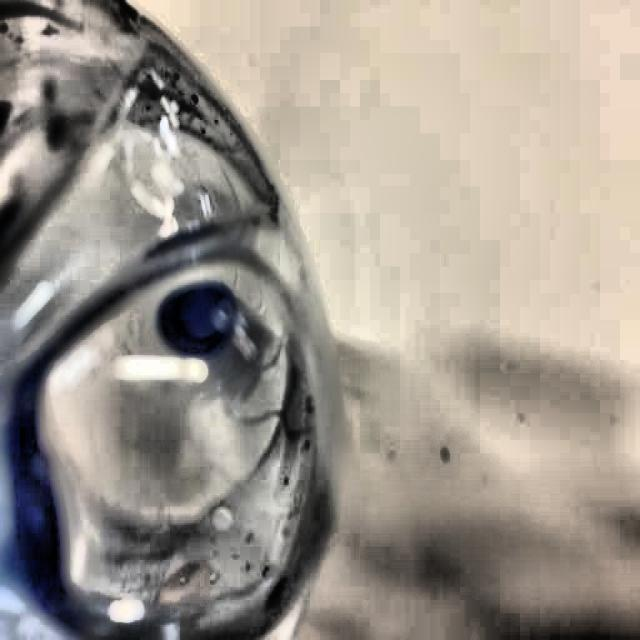plastic: (0, 3, 347, 634)
